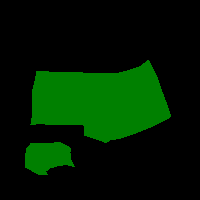mutande: (30, 59, 171, 143), (25, 142, 75, 175)
